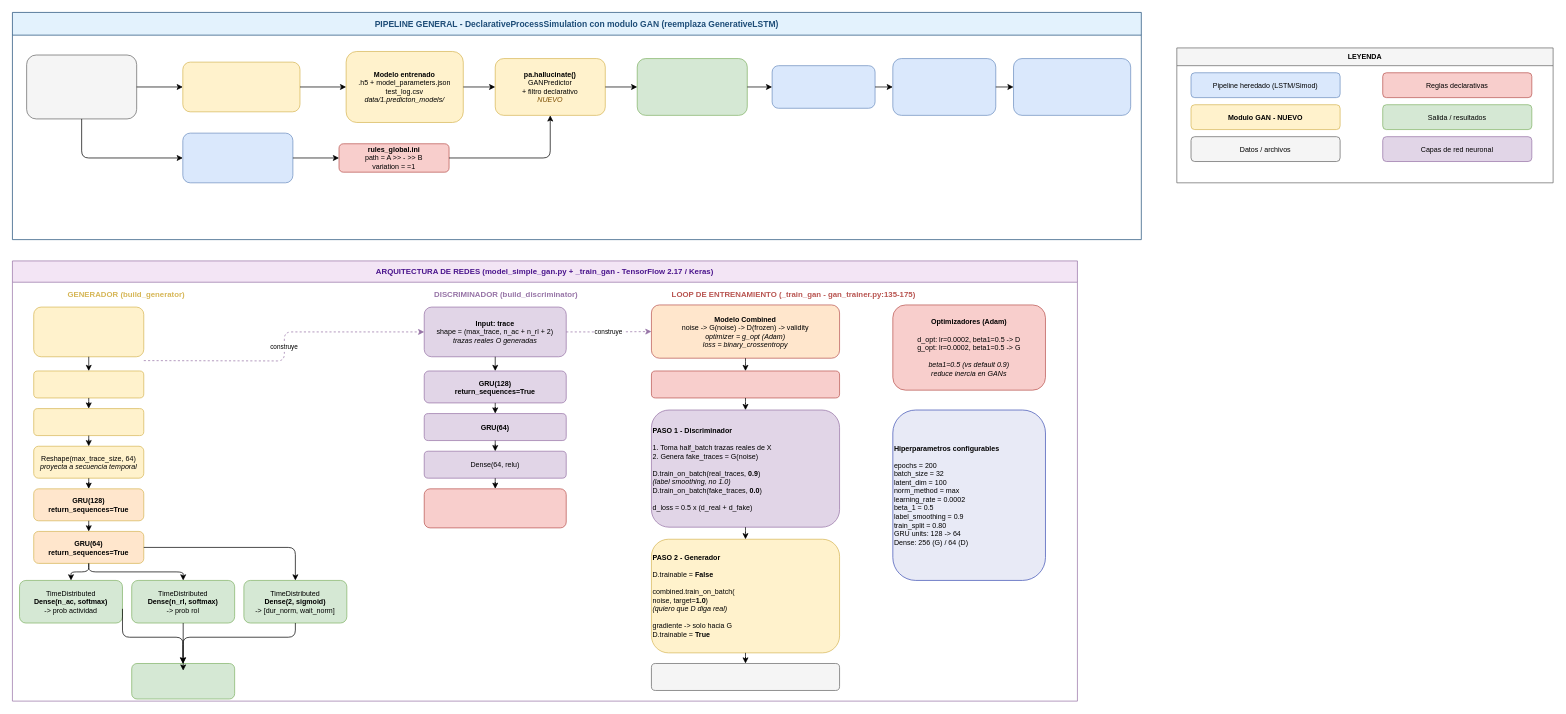
The diagram is 1566 pixels wide and 714 high, and some of its shapes have lost their labels. The centre of each missing label's shape, as x and y in pixels:
"Concatenate Output: (max_trace, n_ac + n_rl + 2)" goes at point 183,681.
"Dense(1, sigmoid) -> validity en [0,1] 0 = falsa / 1 = real" goes at point 495,508.
"Dense(256, relu)" goes at point 88,384.
"Dense(max_trace x 64, relu)" goes at point 88,422.
"dg_training.py -> GANTrainer NUEVO - reemplaza LSTM" goes at point 241,86.
"for epoch in range(epochs=200):" goes at point 745,384.
"if epoch % 20 == 0: print(D_loss, G_loss)" goes at point 745,676.
"Input: noise shape = (latent_dim,) latent_dim = 100 N(0,1) gaussiano" goes at point 88,331.
"Log Generado .csv / .xes / .csv.gz data/2.hallucination_logs/" goes at point 692,86.
"Log Original PurchasingExample.csv data/0.logs/" goes at point 81,86.
"MINERful Extraccion de reglas declarativas LTL" goes at point 237,157.
"Modelo BPMN + JSON recursos data/2.bps_asis/" goes at point 944,86.
"Prosimos / BIMP Simulacion de procesos (Docker)" goes at point 1072,86.
"Simod Mineria de procesos (Docker)" goes at point 823,86.
